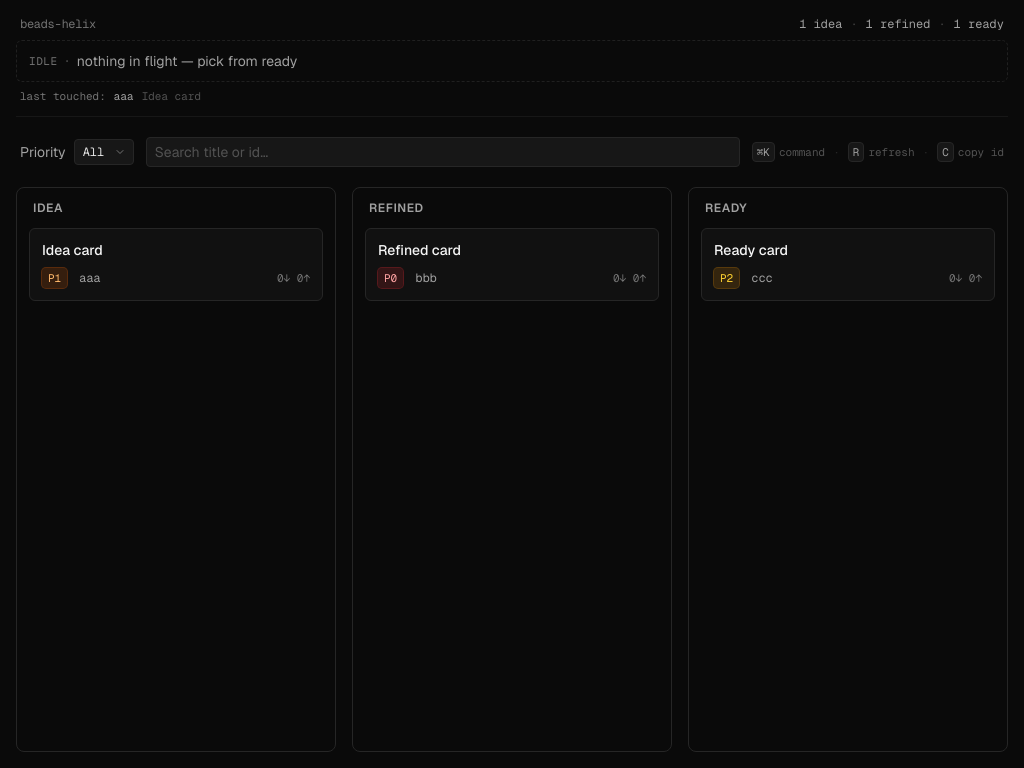
Scenario: <Board /> › filters cards by priority via the FilterToolbar
Expected: the link "Idea card P1 aaa 0↓ 0↑" is shown, top-left (29, 228), bottom-right (323, 301)
Select "P0" in the dropdown labelled "Priority": (104, 152) top-left (74, 139), bottom-right (134, 165)
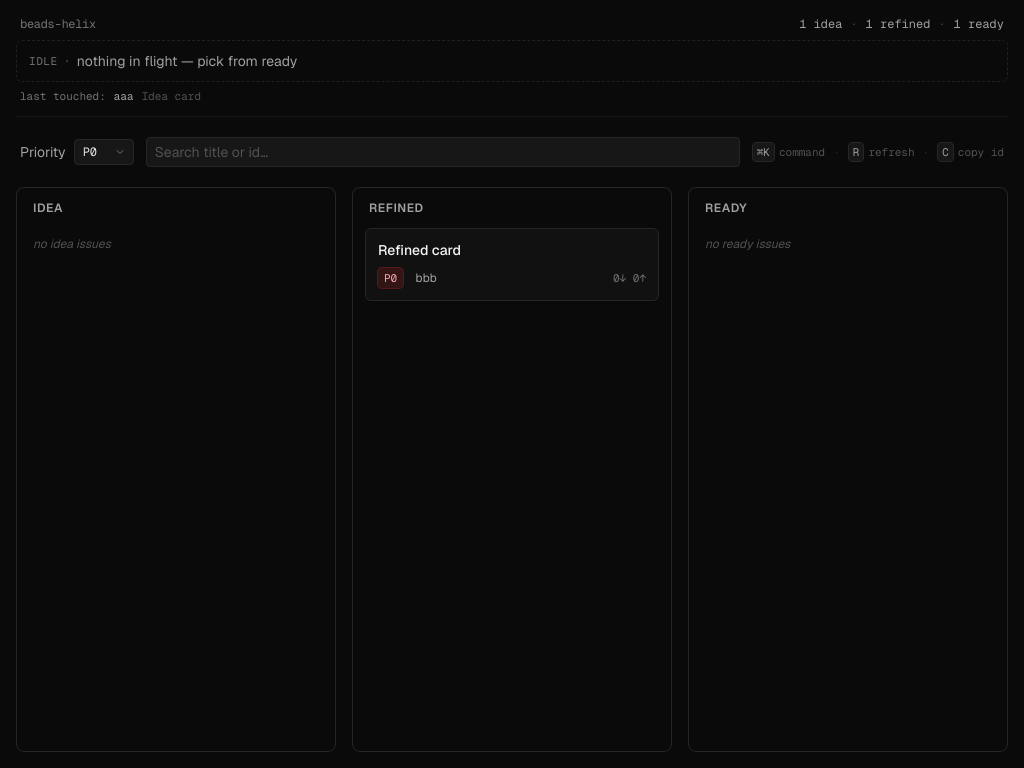
Expected: the link "Refined card P0 bbb 0↓ 0↑" is shown, top-left (365, 228), bottom-right (659, 301)
Now the link "Ready card" is gone
